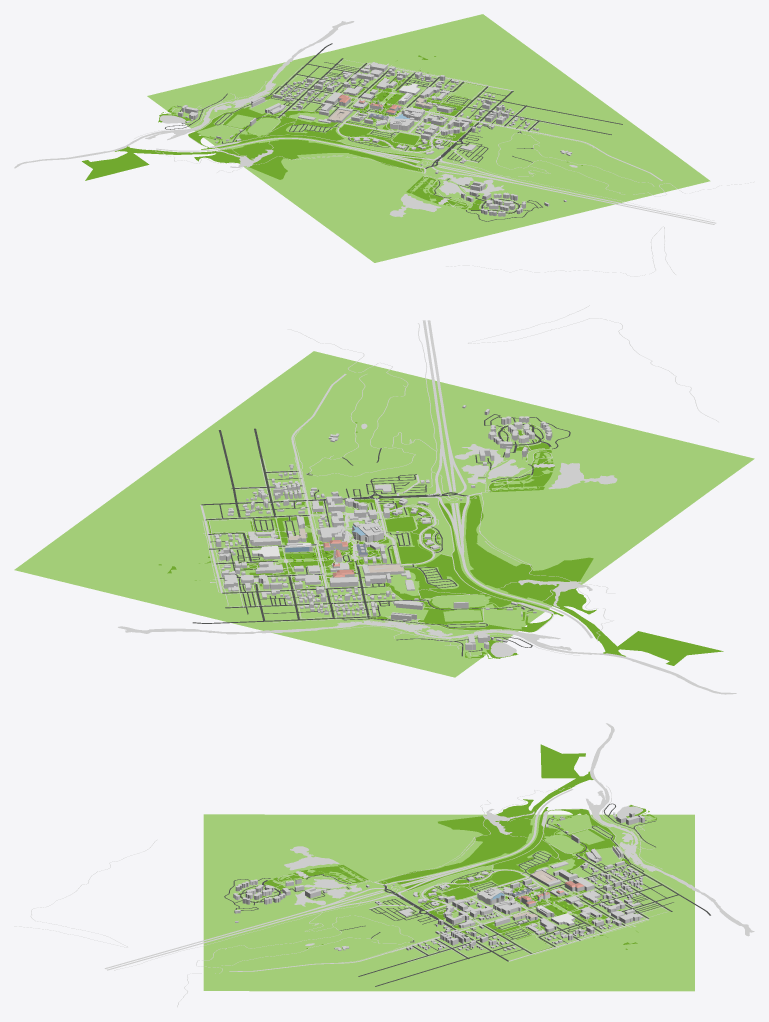
The model's file is fullmap.glb.
The picture shows the model from 3 angles, top to bottom: view 1: azimuth 30°, elevation 25°; view 2: azimuth 150°, elevation 25°; view 3: azimuth 270°, elevation 25°; orthographic projection. The views are drawn at different scales.
Visible parts, largest first — view 1: Plane, map (1).osm_vegetation, map (1).osm_buildings, map (1).osm_paths_footway, map (1).osm_roads_service, map (1).osm_forest, map (1).osm_roads_trunk, map (1).osm_roads_residential, map (1).osm_water, map (1).osm_paths_cycleway, map (1).osm_roads_unclassified, map (1).osm_roads_tertiary; view 2: Plane, map (1).osm_vegetation, map (1).osm_buildings, map (1).osm_paths_footway, map (1).osm_roads_service, map (1).osm_forest, map (1).osm_roads_residential, map (1).osm_roads_trunk, map (1).osm_water, map (1).osm_paths_cycleway, map (1).osm_roads_unclassified, map (1).osm_roads_tertiary; view 3: Plane, map (1).osm_vegetation, map (1).osm_buildings, map (1).osm_paths_footway, map (1).osm_roads_service, map (1).osm_forest, map (1).osm_roads_trunk, map (1).osm_roads_residential, map (1).osm_water, map (1).osm_paths_cycleway, map (1).osm_roads_unclassified, map (1).osm_roads_tertiary.
Boxes of the visible parts, x1=… form: Plane: x1=147, y1=14, x2=710, y2=262; map (1).osm_vegetation: x1=82, y1=55, x2=582, y2=214; map (1).osm_buildings: x1=178, y1=62, x2=572, y2=216; map (1).osm_paths_footway: x1=148, y1=59, x2=754, y2=276; map (1).osm_roads_service: x1=165, y1=62, x2=542, y2=221; map (1).osm_forest: x1=145, y1=83, x2=504, y2=217; map (1).osm_roads_trunk: x1=156, y1=138, x2=716, y2=224; map (1).osm_roads_residential: x1=274, y1=43, x2=622, y2=213; map (1).osm_water: x1=14, y1=21, x2=577, y2=168; map (1).osm_paths_cycleway: x1=134, y1=81, x2=714, y2=220; map (1).osm_roads_unclassified: x1=337, y1=96, x2=479, y2=162; map (1).osm_roads_tertiary: x1=367, y1=62, x2=662, y2=180; Plane: x1=14, y1=351, x2=754, y2=677; map (1).osm_vegetation: x1=158, y1=422, x2=723, y2=665; map (1).osm_buildings: x1=214, y1=405, x2=552, y2=650; map (1).osm_paths_footway: x1=202, y1=305, x2=718, y2=655; map (1).osm_roads_service: x1=210, y1=414, x2=570, y2=656; map (1).osm_forest: x1=337, y1=444, x2=617, y2=650; map (1).osm_roads_residential: x1=192, y1=424, x2=551, y2=623; map (1).osm_roads_trunk: x1=419, y1=320, x2=592, y2=638; map (1).osm_water: x1=118, y1=423, x2=736, y2=694; map (1).osm_paths_cycleway: x1=337, y1=323, x2=579, y2=655; map (1).osm_roads_unclassified: x1=306, y1=474, x2=436, y2=588; map (1).osm_roads_tertiary: x1=200, y1=374, x2=481, y2=593; Plane: x1=203, y1=814, x2=694, y2=991; map (1).osm_vegetation: x1=238, y1=744, x2=656, y2=952; map (1).osm_buildings: x1=233, y1=812, x2=644, y2=951; map (1).osm_paths_footway: x1=14, y1=786, x2=677, y2=1007; map (1).osm_roads_service: x1=224, y1=803, x2=673, y2=955; map (1).osm_forest: x1=284, y1=790, x2=655, y2=906; map (1).osm_roads_trunk: x1=104, y1=789, x2=573, y2=970; map (1).osm_roads_residential: x1=239, y1=854, x2=710, y2=986; map (1).osm_water: x1=305, y1=723, x2=754, y2=945; map (1).osm_paths_cycleway: x1=114, y1=785, x2=662, y2=970; map (1).osm_roads_unclassified: x1=369, y1=869, x2=597, y2=931; map (1).osm_roads_tertiary: x1=229, y1=882, x2=648, y2=971.
Bounding box in the file's own units: 232 × 4.1 × 255.
